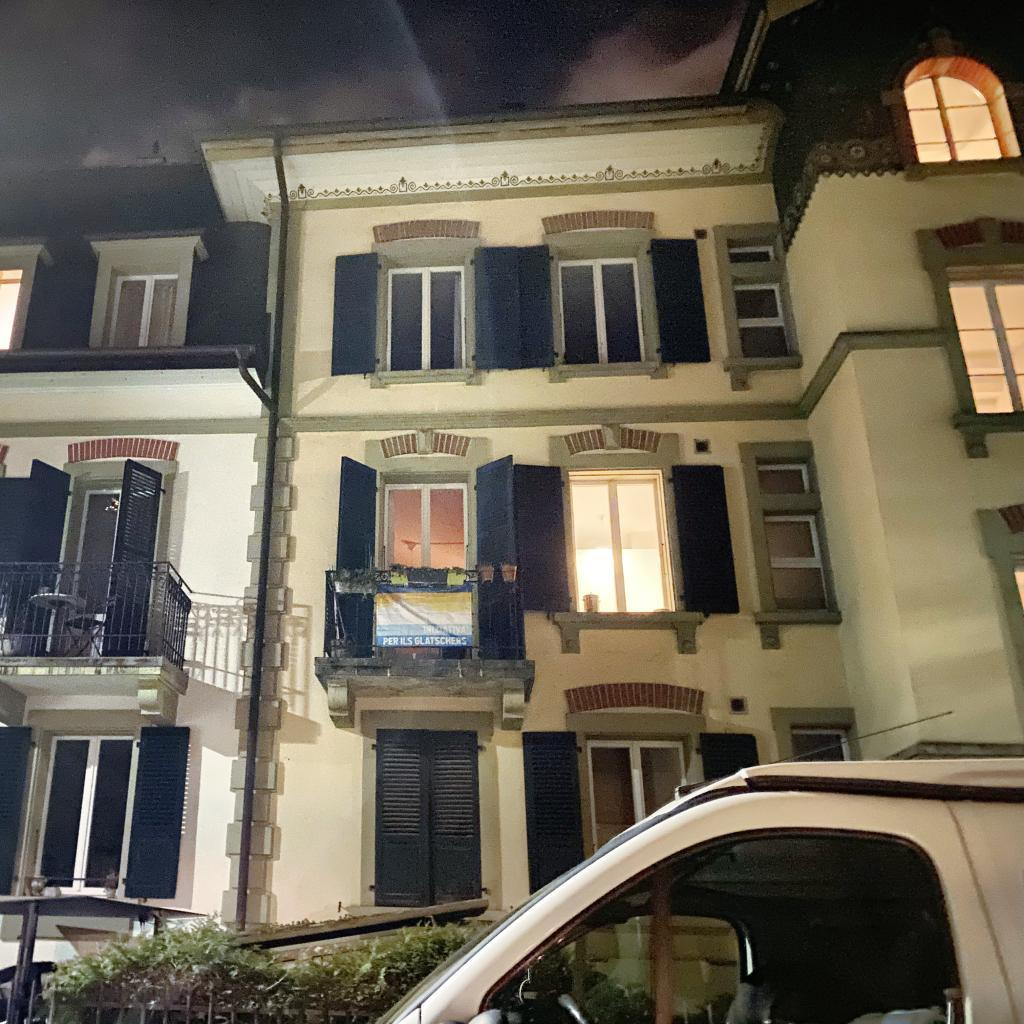balcony-fence: (314, 563, 538, 679), (0, 560, 193, 675)
car: (371, 740, 1024, 1024)
facade: (0, 0, 1024, 1024)
vegetation: (32, 907, 496, 1024)
window: (371, 726, 488, 908), (31, 734, 139, 899), (567, 474, 669, 613), (586, 739, 686, 847), (947, 277, 1024, 415), (557, 256, 646, 366), (904, 75, 1004, 163), (385, 266, 466, 372), (385, 482, 468, 569), (67, 488, 122, 617), (764, 515, 829, 611), (108, 274, 178, 346), (733, 283, 792, 358), (792, 729, 850, 761), (757, 462, 810, 493), (0, 278, 21, 350), (727, 245, 775, 263), (1012, 565, 1024, 614)
